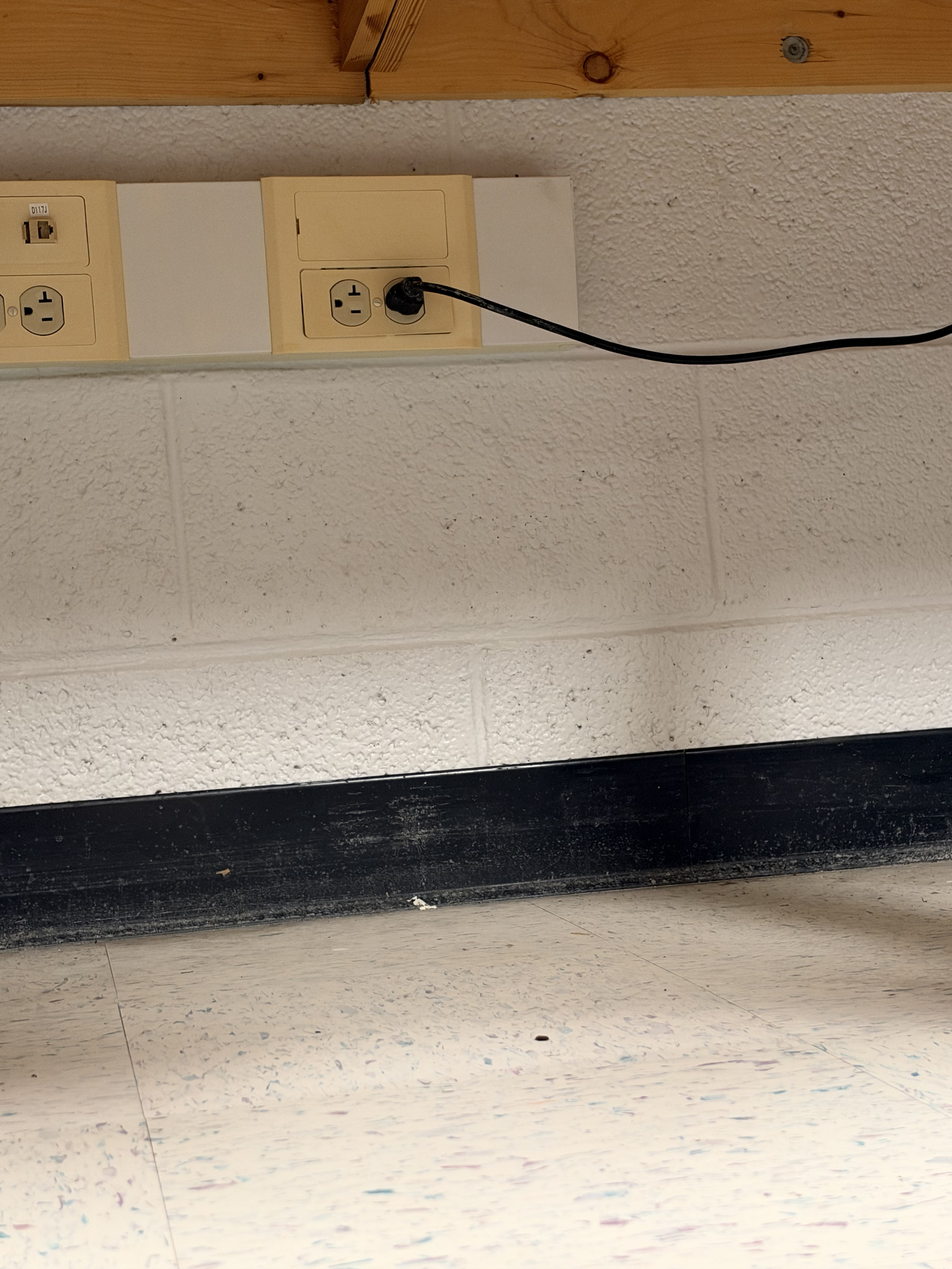outlet: (263, 175, 485, 350), (0, 179, 116, 367)
